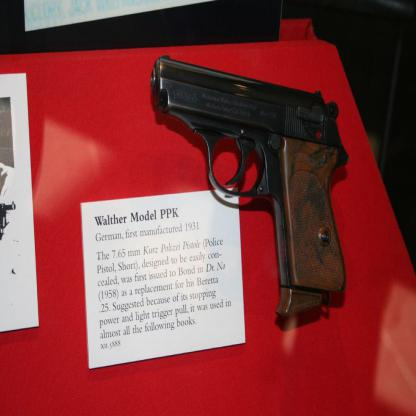Handgun: (150, 54, 349, 317)
